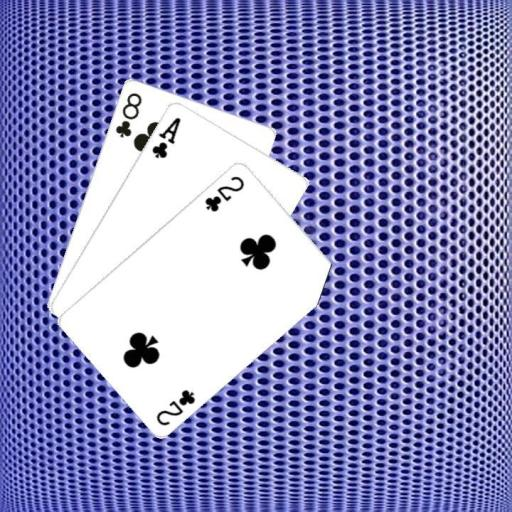2C: (153, 386, 197, 428), (201, 172, 246, 213)
8C: (112, 89, 144, 139)
AC: (149, 114, 183, 159)
